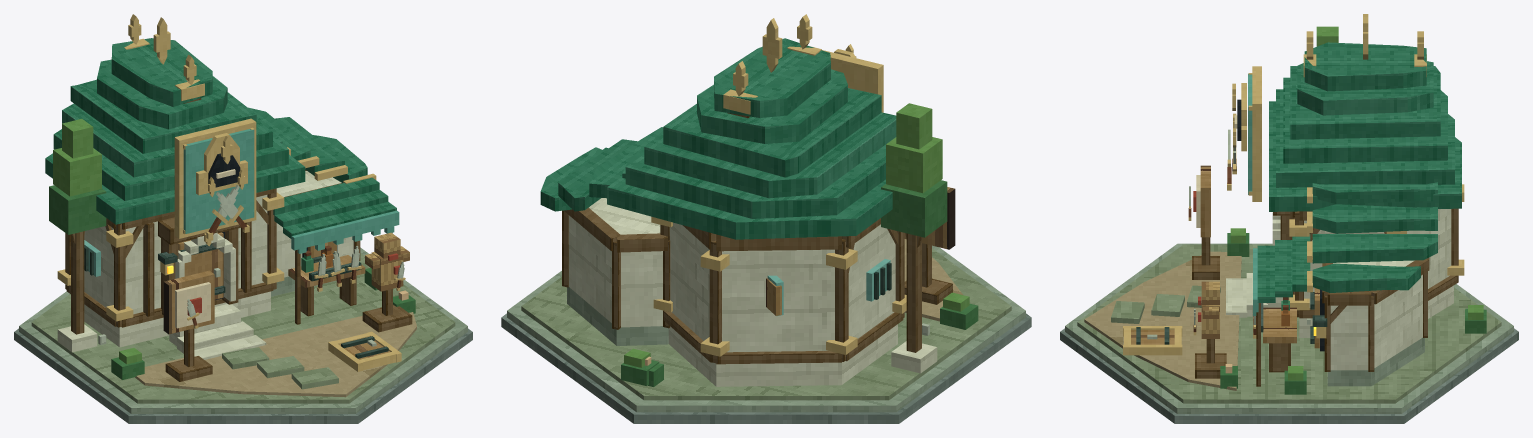
The model's file is elf_rogue_guild_hex_v1.glb.
The picture shows the model from 3 angles, left to right: view 1: azimuth 30°, elevation 25°; view 2: azimuth 150°, elevation 25°; view 3: azimuth 270°, elevation 25°; orthographic projection. The views are drawn at different scales.
Visible parts, largest first — view 1: Elf_Rogue_Guild_Hex_V1_Roofs, Elf_Rogue_Guild_Hex_V1_Foundation, Elf_Rogue_Guild_Hex_V1_Details, Elf_Rogue_Guild_Hex_V1_Hall, Elf_Rogue_Guild_Hex_V1_Courtyard, Elf_Rogue_Guild_Hex_V1_Training, Elf_Rogue_Guild_Hex_V1_Faction, Elf_Rogue_Guild_Hex_V1_Annex; view 2: Elf_Rogue_Guild_Hex_V1_Roofs, Elf_Rogue_Guild_Hex_V1_Hall, Elf_Rogue_Guild_Hex_V1_Foundation, Elf_Rogue_Guild_Hex_V1_Details, Elf_Rogue_Guild_Hex_V1_Annex, Elf_Rogue_Guild_Hex_V1_Training, Elf_Rogue_Guild_Hex_V1_Courtyard; view 3: Elf_Rogue_Guild_Hex_V1_Roofs, Elf_Rogue_Guild_Hex_V1_Foundation, Elf_Rogue_Guild_Hex_V1_Courtyard, Elf_Rogue_Guild_Hex_V1_Annex, Elf_Rogue_Guild_Hex_V1_Details, Elf_Rogue_Guild_Hex_V1_Training, Elf_Rogue_Guild_Hex_V1_Hall, Elf_Rogue_Guild_Hex_V1_Faction.
Part boxes in pixels (<box>): Elf_Rogue_Guild_Hex_V1_Roofs: <box>45,14,396,238</box>; Elf_Rogue_Guild_Hex_V1_Foundation: <box>14,247,472,423</box>; Elf_Rogue_Guild_Hex_V1_Details: <box>49,17,415,379</box>; Elf_Rogue_Guild_Hex_V1_Hall: <box>57,188,284,347</box>; Elf_Rogue_Guild_Hex_V1_Courtyard: <box>135,304,416,397</box>; Elf_Rogue_Guild_Hex_V1_Training: <box>163,232,412,381</box>; Elf_Rogue_Guild_Hex_V1_Faction: <box>183,129,399,253</box>; Elf_Rogue_Guild_Hex_V1_Annex: <box>271,170,392,324</box>; Elf_Rogue_Guild_Hex_V1_Roofs: <box>540,14,896,239</box>; Elf_Rogue_Guild_Hex_V1_Hall: <box>651,216,906,386</box>; Elf_Rogue_Guild_Hex_V1_Foundation: <box>501,245,1031,423</box>; Elf_Rogue_Guild_Hex_V1_Details: <box>621,18,978,386</box>; Elf_Rogue_Guild_Hex_V1_Annex: <box>562,198,670,345</box>; Elf_Rogue_Guild_Hex_V1_Training: <box>904,187,955,304</box>; Elf_Rogue_Guild_Hex_V1_Courtyard: <box>904,239,963,321</box>; Elf_Rogue_Guild_Hex_V1_Roofs: <box>1257,31,1461,302</box>; Elf_Rogue_Guild_Hex_V1_Foundation: <box>1060,243,1518,423</box>; Elf_Rogue_Guild_Hex_V1_Courtyard: <box>1084,251,1282,390</box>; Elf_Rogue_Guild_Hex_V1_Annex: <box>1256,257,1429,386</box>; Elf_Rogue_Guild_Hex_V1_Details: <box>1220,14,1486,394</box>; Elf_Rogue_Guild_Hex_V1_Training: <box>1188,165,1296,378</box>; Elf_Rogue_Guild_Hex_V1_Hall: <box>1273,184,1464,337</box>; Elf_Rogue_Guild_Hex_V1_Faction: <box>1248,73,1258,315</box>.
Size of the model in its own units: 1.59 by 1.35 by 1.84.
1 material, 1 textured.
